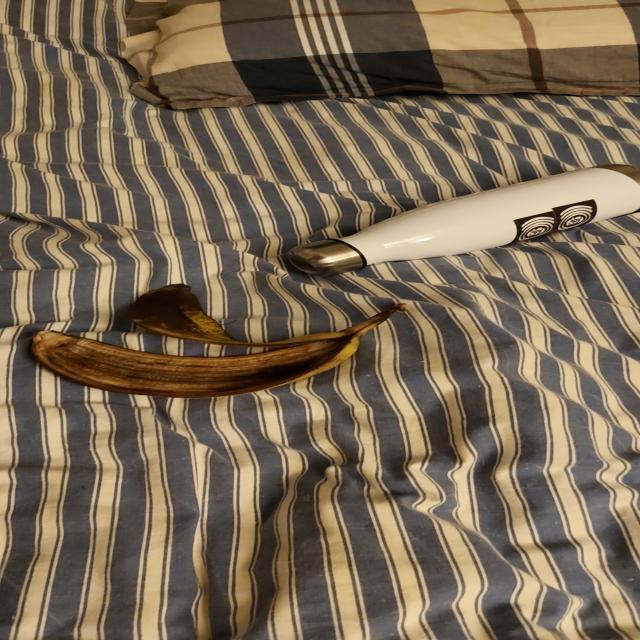banana-peel: (29, 282, 408, 398), (285, 162, 639, 277)
